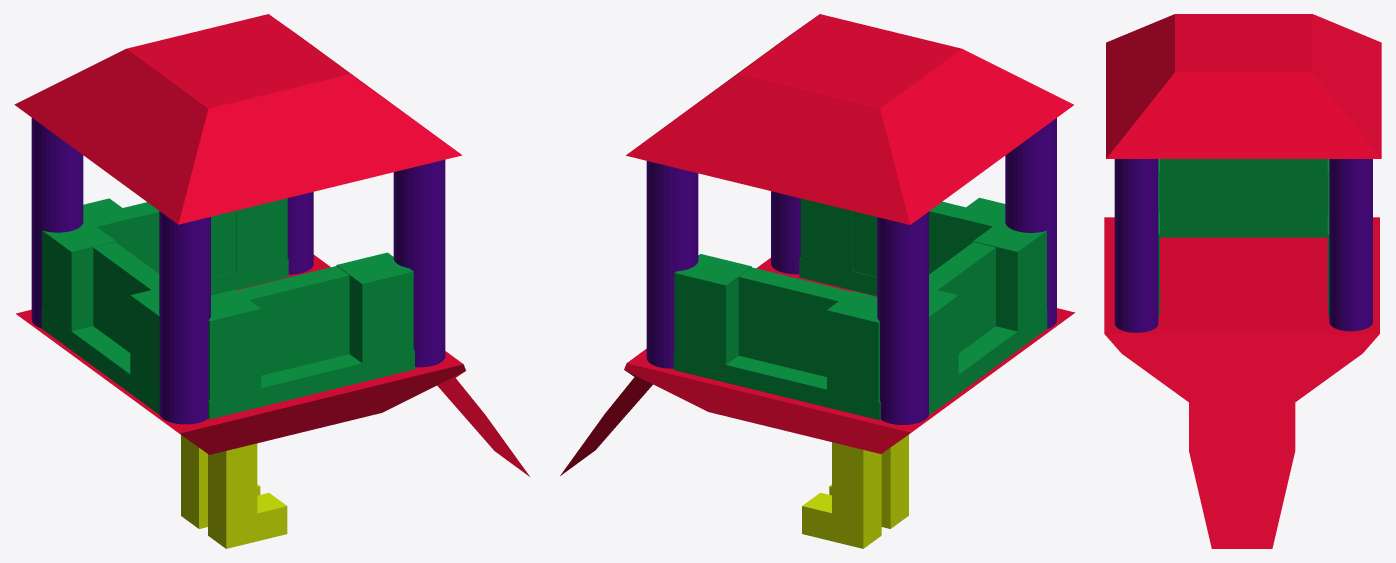
File: CasaV3.fbx
3 renders of one model, left to right at view 1: azimuth 30°, elevation 25°; view 2: azimuth 150°, elevation 25°; view 3: azimuth 270°, elevation 25°, orthographic. The views are drawn at different scales.
Parts seen in each view (by area): view 1: CasaM8-C1; view 2: CasaM8-C1; view 3: CasaM8-C1.
Boxes of the visible parts, x1,y1,x2,y2 form: CasaM8-C1: (14, 14, 529, 548); CasaM8-C1: (560, 14, 1075, 548); CasaM8-C1: (1104, 14, 1381, 548).
Size of the model in its own units: 4314 by 4654 by 2969.
